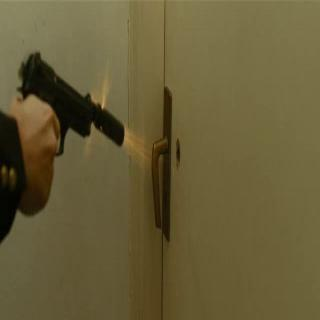gun: (12, 32, 132, 184)
